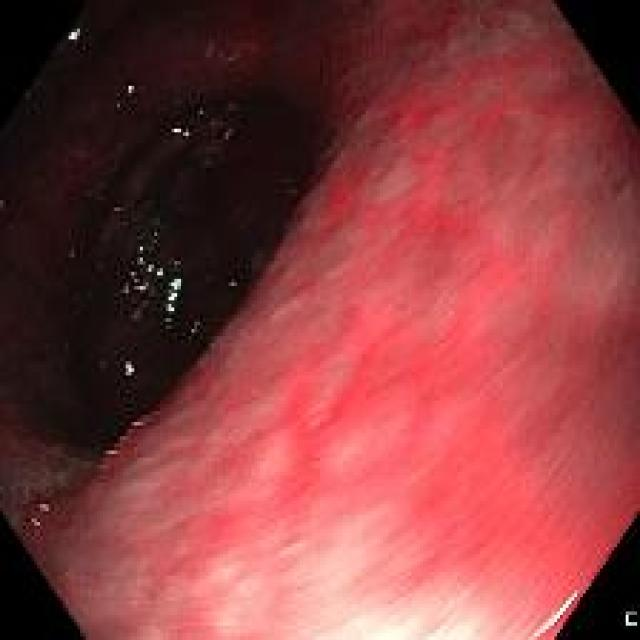blur: (126, 112, 623, 633)
bubbles: (123, 238, 165, 328), (28, 499, 51, 531), (220, 102, 238, 120), (190, 316, 203, 337), (222, 123, 236, 142), (162, 315, 175, 333), (97, 356, 110, 374), (65, 246, 76, 264), (94, 259, 106, 275), (111, 201, 123, 216), (227, 276, 236, 289)
contrast: (2, 11, 327, 471)
saturation: (206, 486, 535, 638)
specularity: (535, 590, 579, 633), (166, 277, 182, 312), (122, 355, 140, 386), (171, 123, 190, 140), (70, 25, 85, 45), (120, 280, 130, 297), (154, 264, 164, 280), (137, 245, 145, 262), (127, 81, 135, 93), (146, 264, 153, 271)
